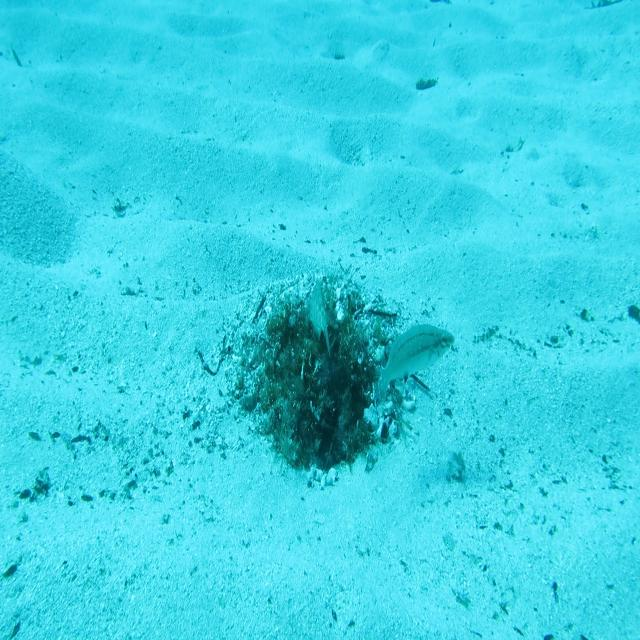NIP_CORE: (302, 276, 341, 362)
core_nest: (292, 321, 334, 373)
female: (372, 320, 457, 420)
nest: (208, 254, 423, 508)
vegetation: (414, 72, 438, 94)
